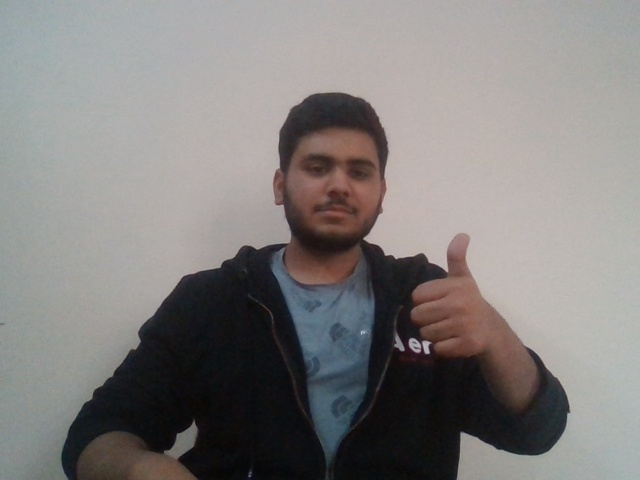Yes: (401, 229, 507, 361)
